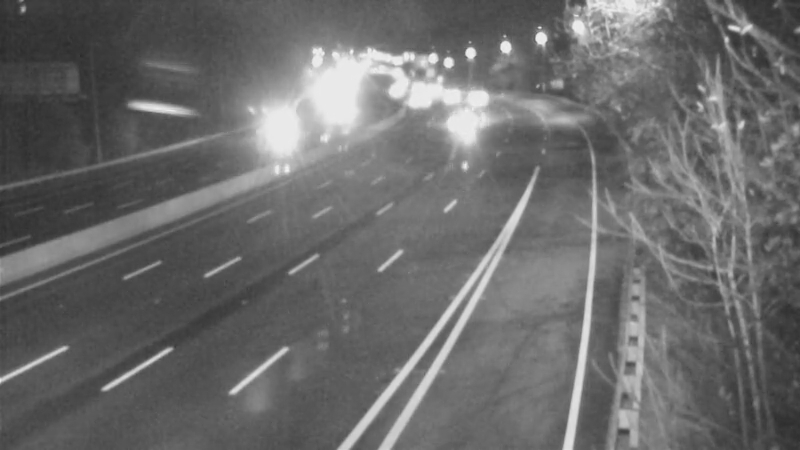vehicle: (450, 68, 500, 118), (387, 75, 437, 125), (436, 94, 486, 144), (248, 107, 298, 157)
